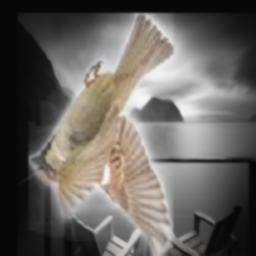Sparrow: (29, 13, 173, 256)
